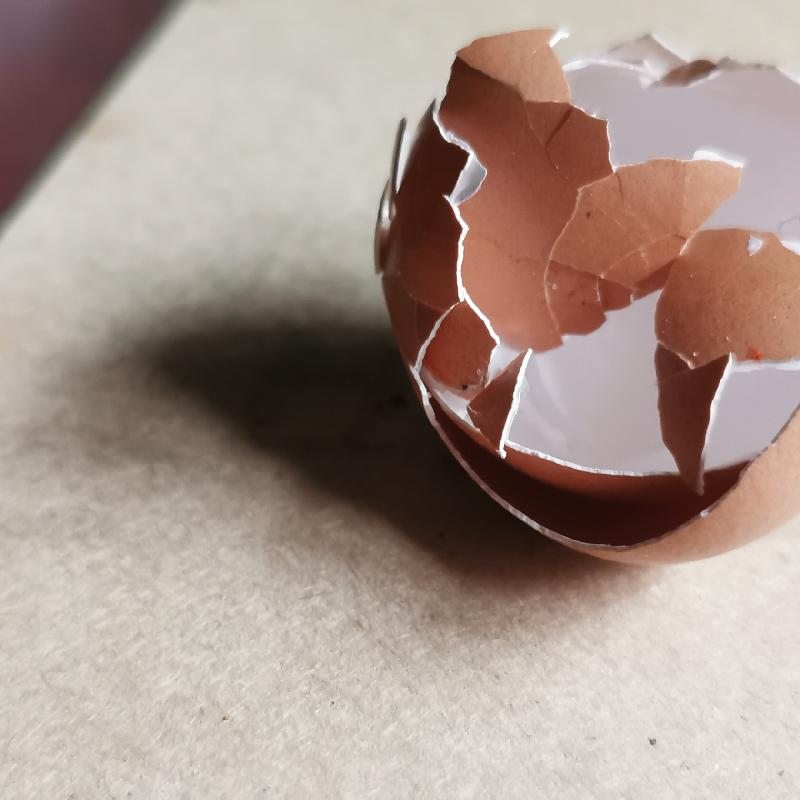eggshell: (372, 26, 800, 572)
